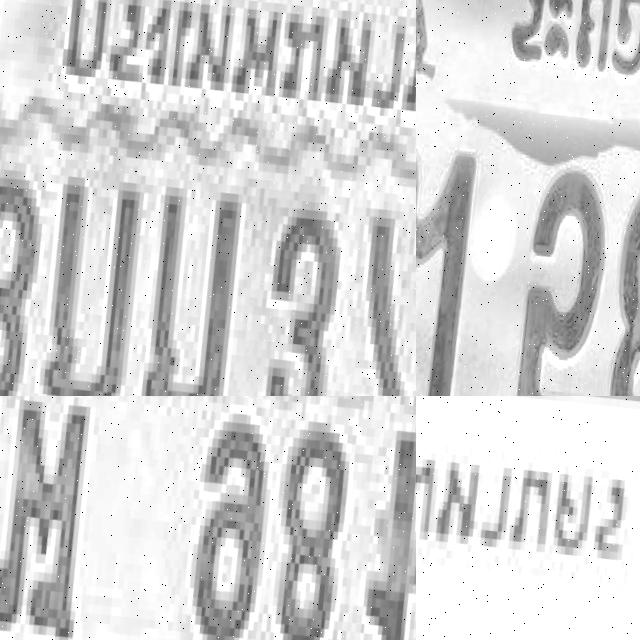license-plate: (0, 0, 416, 396), (0, 396, 416, 640), (416, 0, 640, 396), (416, 396, 640, 640)
